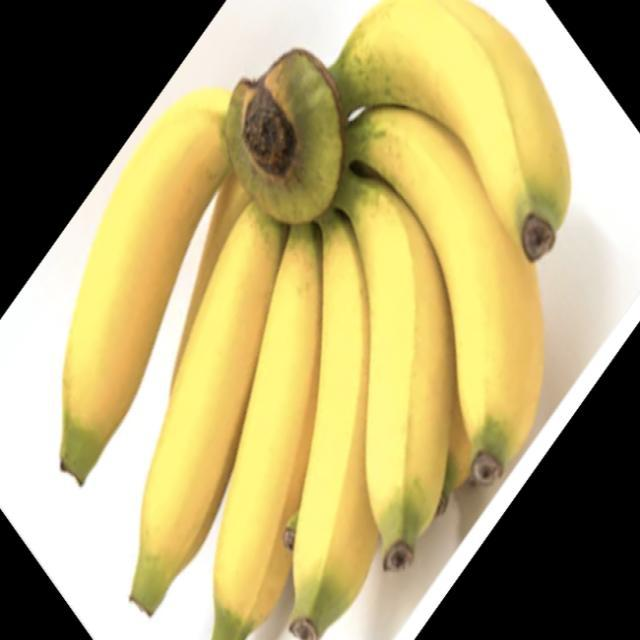Banana: (57, 0, 570, 640)
